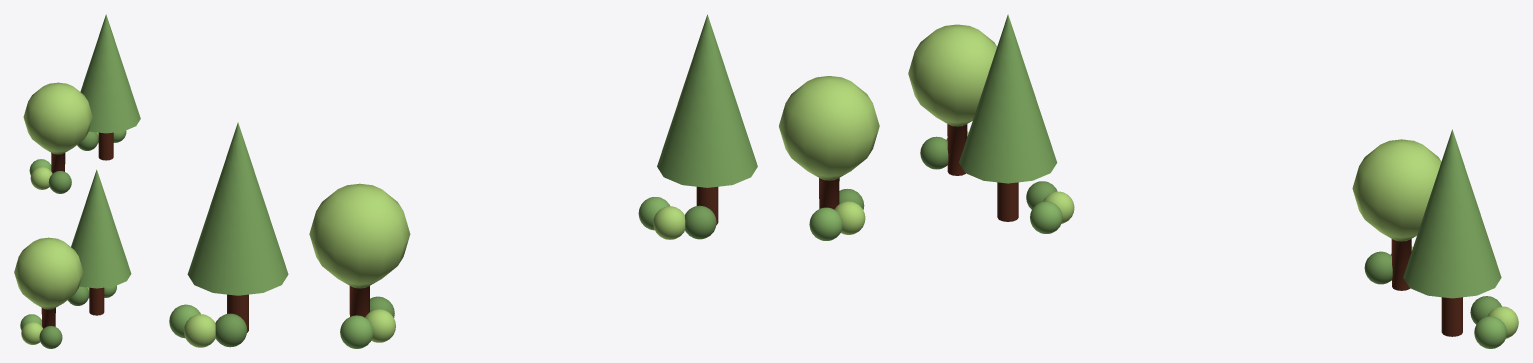
Rendered from level_1_building_trees_yeni.fbx.
3 renders of one model, left to right at view 1: azimuth 30°, elevation 25°; view 2: azimuth 150°, elevation 25°; view 3: azimuth 270°, elevation 25°, orthographic. The views are drawn at different scales.
Visible parts, largest first — view 1: Tree_1, Tree_1_2, Tree_2, Tree_2_2, Sphere_2_3, Sphere_2_5, Sphere_1_4, Sphere_1_2, Sphere_2, Sphere_2_4, Sphere_2_2, Sphere_4 (+2 smaller); view 2: Tree_1_2, Tree_1, Tree_2, Tree_2_2, Sphere_2_2, Sphere_4, Sphere_1_3, Sphere_1, Sphere_2, Sphere_2_4, Sphere_1_4, Sphere_1_2 (+2 smaller); view 3: Tree_1, Tree_1_2, Tree_2_2, Tree_2, Sphere, Sphere_3, Sphere_2_3, Sphere_2_5, Sphere_2_4, Sphere_2, Sphere_1, Sphere_1_3.
Boxes of the visible parts, x1,y1,x2,y2 form: Tree_1: (80,14,140,160); Tree_1_2: (71,169,131,315); Tree_2: (23,82,92,173); Tree_2_2: (14,237,83,328); Sphere_2_3: (48,171,71,193); Sphere_2_5: (39,326,62,348); Sphere_1_4: (21,322,42,344); Sphere_1_2: (30,167,52,189); Sphere_2: (77,131,98,150); Sphere_2_4: (68,286,89,305); Sphere_2_2: (29,159,51,175); Sphere_4: (20,314,41,330); Tree_1_2: (657,14,757,224); Tree_1: (187,122,288,332); Tree_2: (309,183,410,317); Tree_2_2: (779,76,879,209); Sphere_2_2: (340,315,373,348); Sphere_4: (809,207,842,240); Sphere_1_3: (653,206,685,239); Sphere_1: (184,314,215,347); Sphere_2: (215,313,247,347); Sphere_2_4: (685,205,716,239); Sphere_1_4: (834,201,865,234); Sphere_1_2: (365,309,395,342); Tree_1: (1403,129,1501,336); Tree_1_2: (959,14,1057,221); Tree_2_2: (908,24,996,175); Tree_2: (1352,139,1441,290); Sphere: (1474,316,1506,348); Sphere_3: (1030,201,1062,233); Sphere_2_3: (1364,251,1392,284); Sphere_2_5: (920,136,948,169); Sphere_2_4: (1026,181,1057,209); Sphere_2: (1470,296,1501,324); Sphere_1: (1487,306,1518,338); Sphere_1_3: (1043,191,1074,223).
Size of the model in its own units: 14.68 by 6.85 by 18.6.
